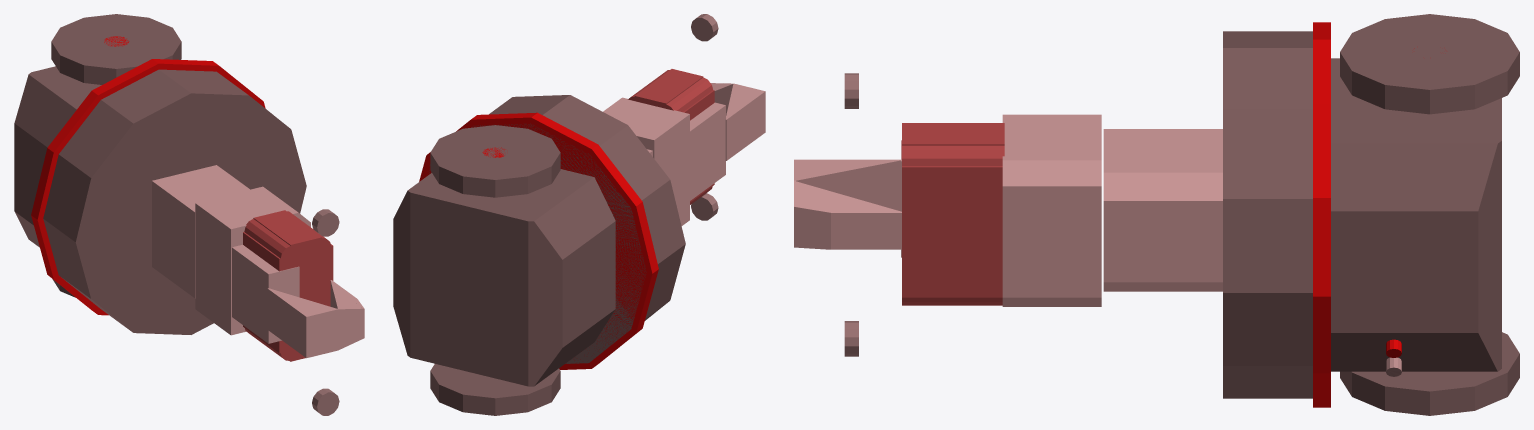
The picture shows the model from 3 angles, left to right: view 1: azimuth 30°, elevation 25°; view 2: azimuth 150°, elevation 25°; view 3: azimuth 270°, elevation 25°; orthographic projection. The views are drawn at different scales.
Size of the model in its own units: 0.43 by 0.43 by 0.807.
